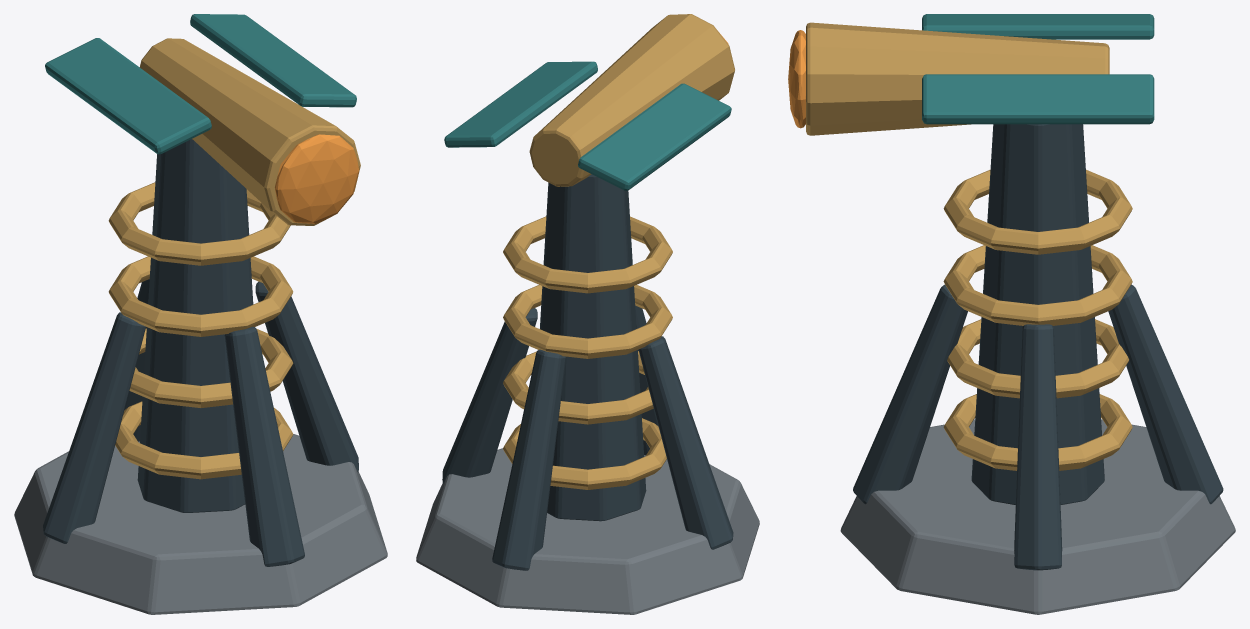
File: sunlance.glb
3 views of the same model, side by side, from view 1: azimuth 30°, elevation 25°; view 2: azimuth 150°, elevation 25°; view 3: azimuth 270°, elevation 25° (orthographic). The views are drawn at different scales.
Parts seen in each view (by area): view 1: Buttress.004, StoneFoundation.003, InductionRing, SolarPanel, BeamEmitter, FocusLens; view 2: Buttress.004, StoneFoundation.003, InductionRing, BeamEmitter, SolarPanel; view 3: Buttress.004, StoneFoundation.003, InductionRing, BeamEmitter, SolarPanel, FocusLens.
Boxes of the visible parts, box(x1,y1,x2,y2) form: Buttress.004: box(43, 139, 358, 566); StoneFoundation.003: box(14, 434, 387, 614); InductionRing: box(108, 182, 293, 479); SolarPanel: box(45, 14, 356, 154); BeamEmitter: box(139, 38, 360, 225); FocusLens: box(275, 134, 359, 223); Buttress.004: box(442, 174, 733, 570); StoneFoundation.003: box(416, 448, 759, 614); InductionRing: box(503, 216, 672, 489); BeamEmitter: box(529, 14, 734, 186); SolarPanel: box(444, 61, 731, 190); Buttress.004: box(853, 124, 1223, 570); StoneFoundation.003: box(840, 419, 1235, 614); InductionRing: box(943, 169, 1132, 470); BeamEmitter: box(806, 22, 1109, 135); SolarPanel: box(922, 14, 1154, 124); FocusLens: box(788, 30, 805, 128).
Bounding box in the file's own units: 2.21 × 3.12 × 2.51.
